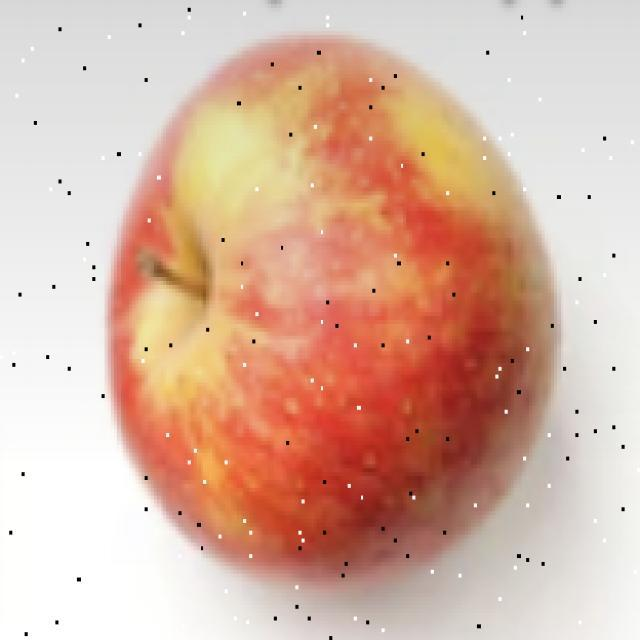Fresh Apple: (87, 35, 580, 583)
